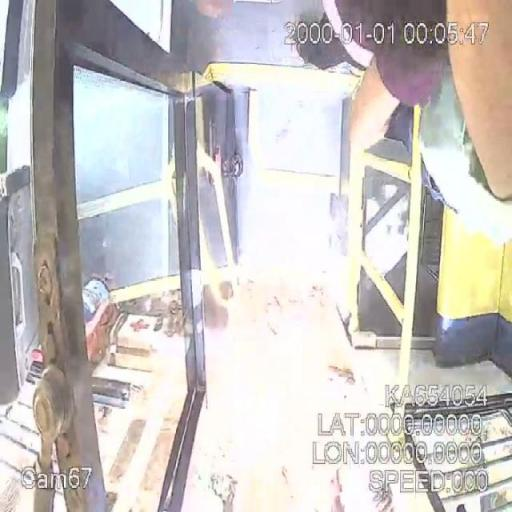persona: (290, 0, 453, 139)
